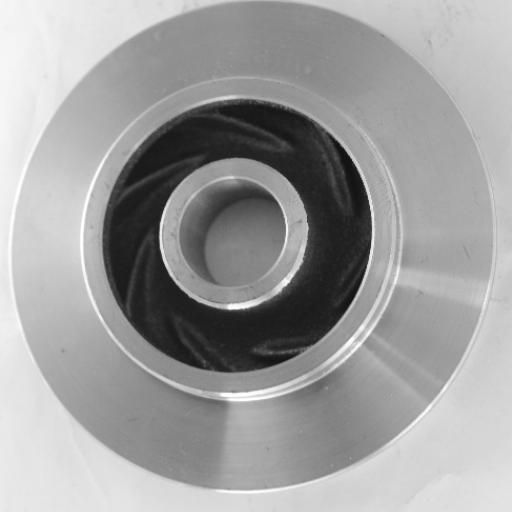polished_casting: (14, 0, 496, 494)
